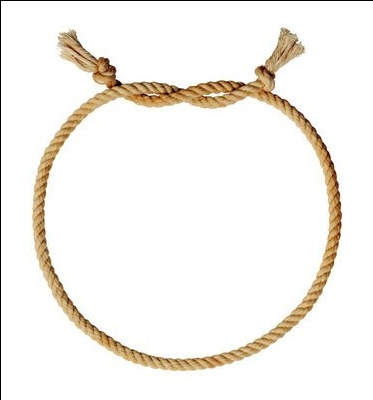9/可回收垃圾/绳子: (30, 29, 343, 371)
